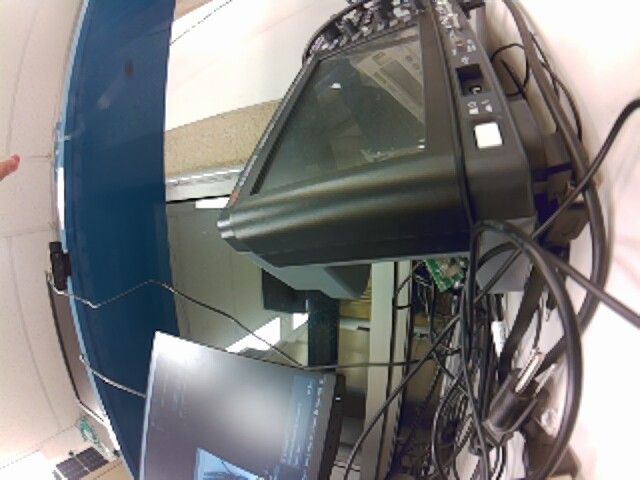mosquito: (122, 55, 136, 84)
